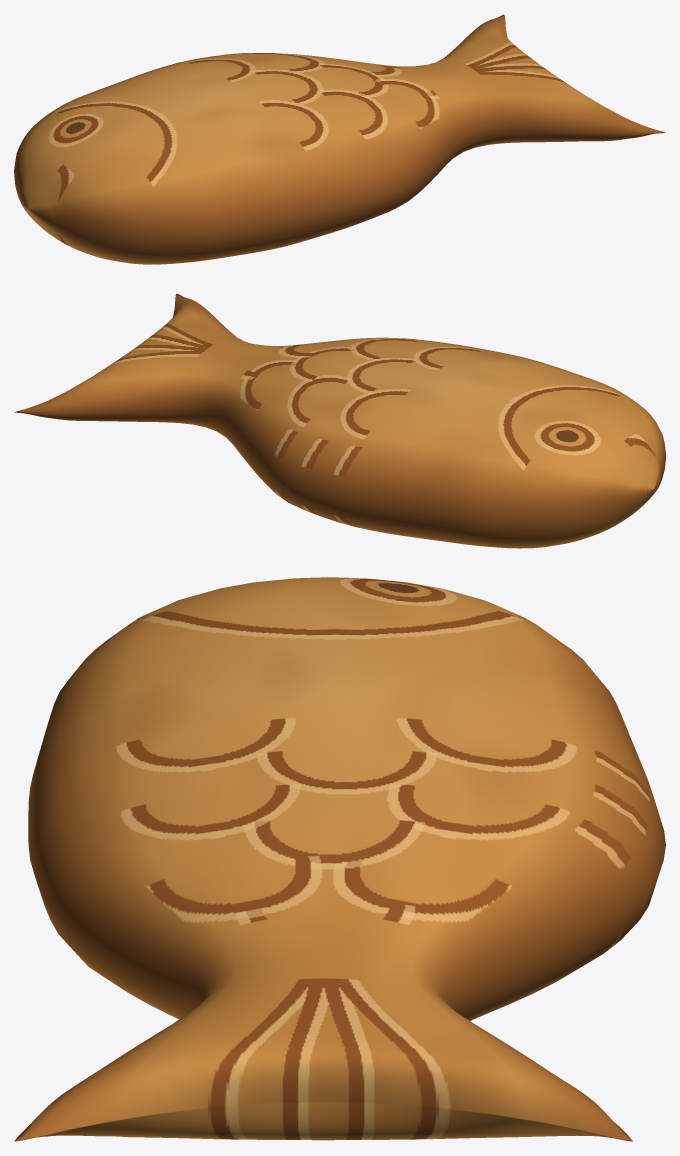
Rendered from Taiyaki.glb.
3 views of the same model, one above another, from view 1: azimuth 30°, elevation 25°; view 2: azimuth 150°, elevation 25°; view 3: azimuth 270°, elevation 25° (orthographic). The views are drawn at different scales.
Parts seen in each view (by area): view 1: Taiyaki; view 2: Taiyaki; view 3: Taiyaki.
Boxes of the visible parts, x1,y1,x2,y2 form: Taiyaki: (14,14,665,264); Taiyaki: (14,293,665,548); Taiyaki: (14,577,665,1141).
Bounding box in the file's own units: 1.7 × 0.3558 × 0.9022.
Materials: 1 (1 with a texture image).
